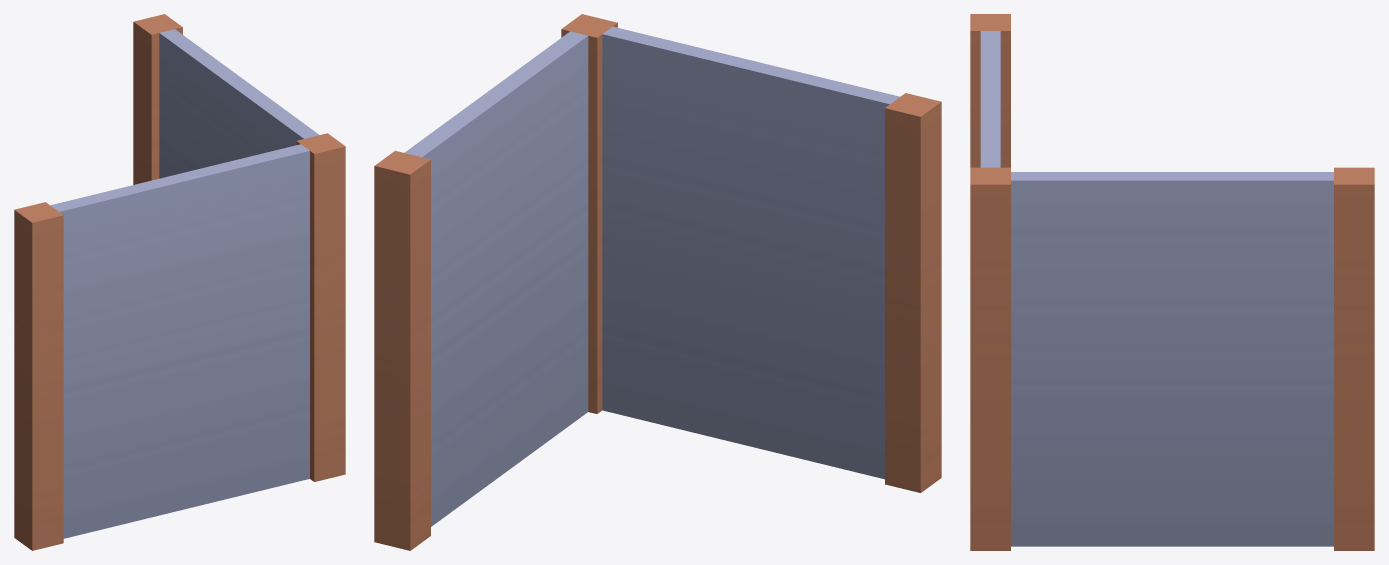
The model's file is wall-corner.fbx.
3 views of the same model, side by side, from view 1: azimuth 30°, elevation 25°; view 2: azimuth 150°, elevation 25°; view 3: azimuth 270°, elevation 25° (orthographic). The views are drawn at different scales.
Parts seen in each view (by area): view 1: wall-corner; view 2: wall-corner; view 3: wall-corner.
Boxes of the visible parts, x1,y1,x2,y2 form: wall-corner: (14,14,345,550); wall-corner: (374,14,941,550); wall-corner: (970,14,1374,550).
Size of the model in its own units: 100 by 100 by 100.
1 material, 1 textured.
